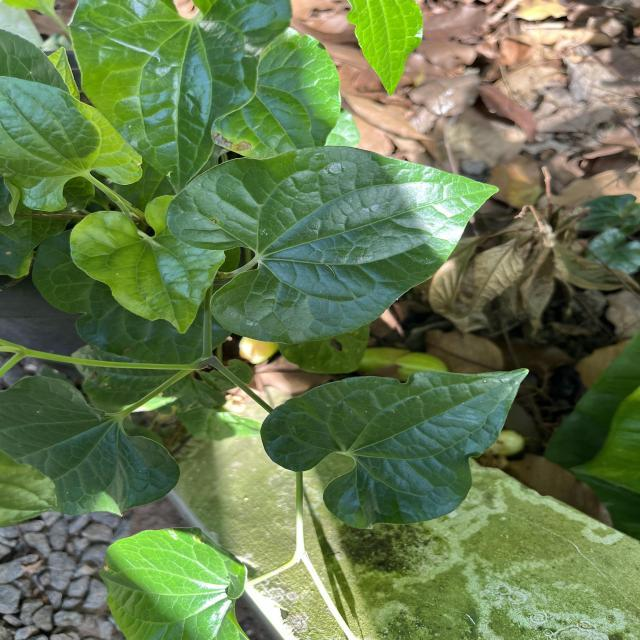Piper longum: (163, 142, 502, 348), (257, 366, 532, 532), (66, 192, 228, 336)
